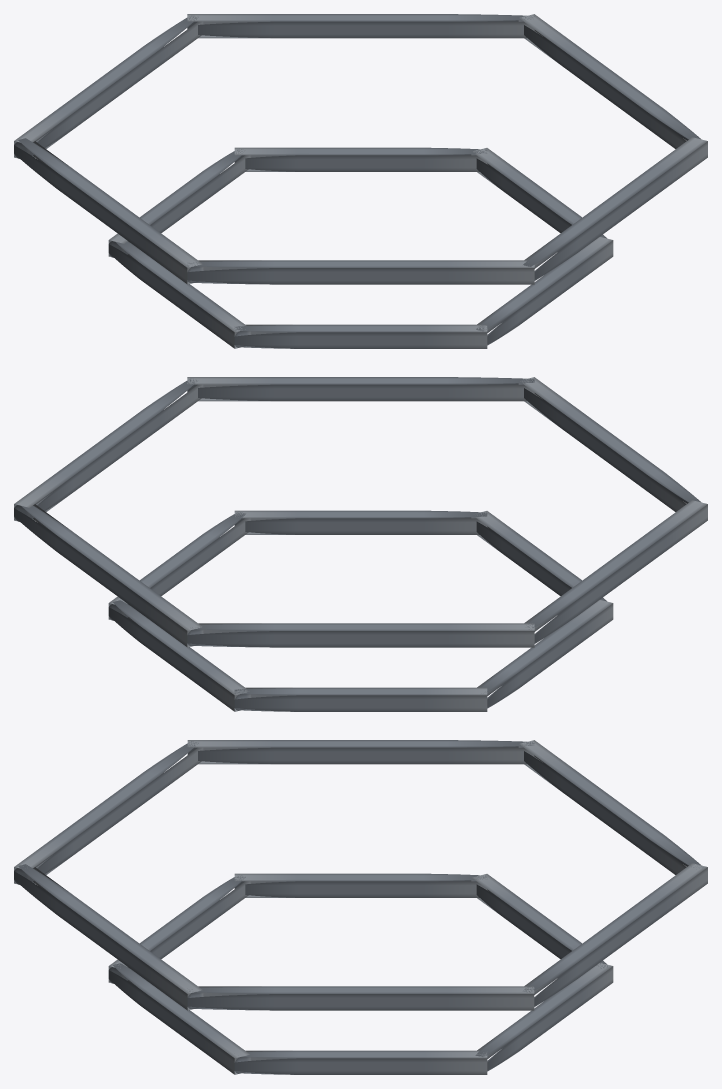
Rendered from rotor_spinners.obj.
3 views of the same model, one above another, from view 1: azimuth 30°, elevation 25°; view 2: azimuth 150°, elevation 25°; view 3: azimuth 270°, elevation 25° (orthographic).
Bounding box in the file's own units: 4.12 × 0.875 × 4.76.
